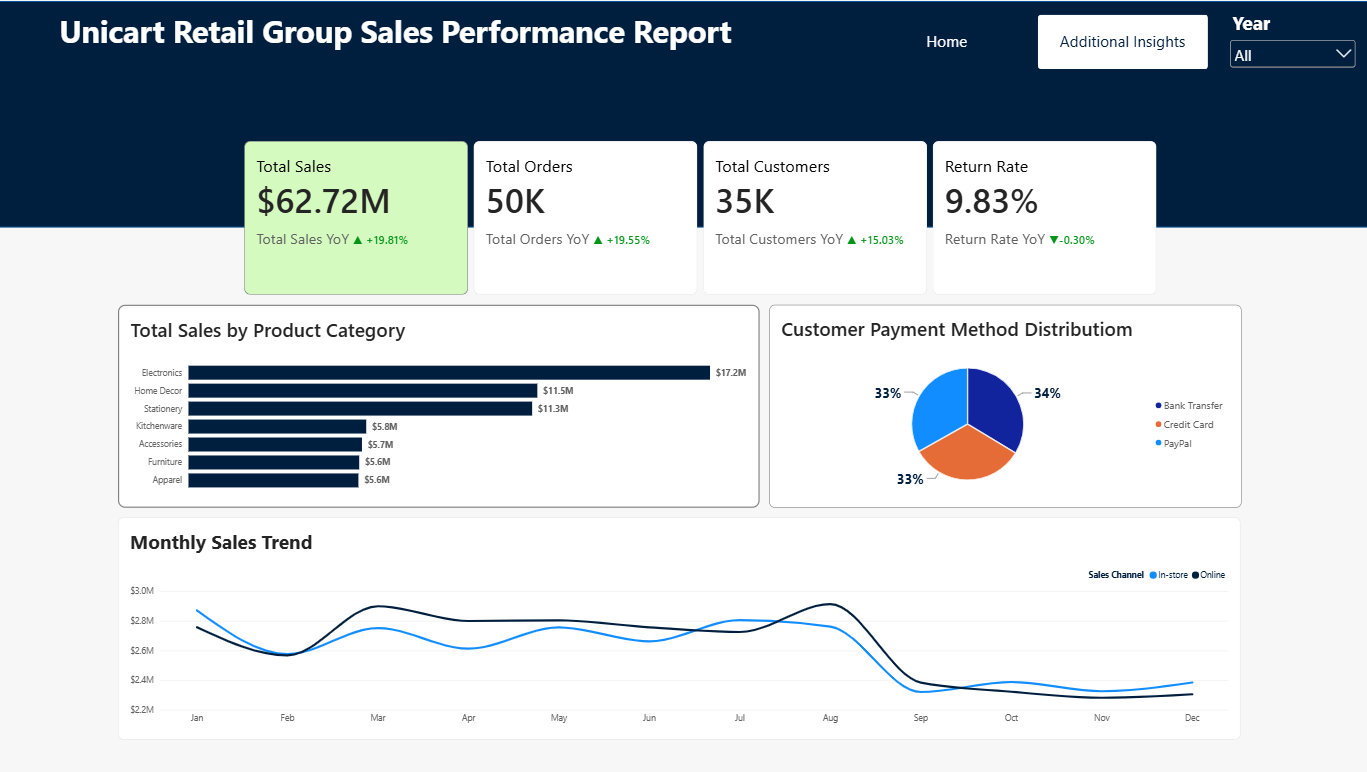

This screenshot's page, from the dashboard's own definition file:
{"tool":"powerbi","page":{"name":"Home","canvas":[1920,1080],"ordinal":0},"visuals":[{"type":"shape","box":[0,0,1920.1,316.7],"z":0},{"type":"cardVisual","fields":{"Data":["#Measures.Total Sales","#Measures.Total Orders","#Measures.Total Customers","#Measures.Return Rate"]},"box":[343.8,195.4,1277.6,215.3],"z":1000},{"type":"slicer","fields":{"Values":["DimDateTable.Year"]},"box":[1719.2,12.7,185.2,166.7],"z":2000},{"type":"lineChart","title":"Monthly Sales Trend","fields":{"Category":["DimDateTable.Month Name"],"Series":["FactSales.SalesChannel"],"Y":["#Measures.Total Sales"]},"box":[168.3,722.1,1570.8,311.3],"z":3000},{"type":"barChart","title":"Total Sales by Product Category","fields":{"Category":["FactSales.Product Category"],"Y":["#Measures.Total Sales"]},"box":[168.3,425.3,897.6,284.1],"z":4000},{"type":"pieChart","title":"Customer Payment Method Distributiom","fields":{"Category":["FactSales.PaymentMethod"],"Y":["CountNonNull(FactSales.PaymentMethod)"]},"box":[1078.6,425.3,660.5,284.1],"z":5000},{"type":"textbox","box":[0,425,168,284],"z":5001},{"type":"textbox","box":[76,12.7,960.9,103.2],"z":5002},{"type":"pageNavigator","box":[1208.9,19.9,485,76],"z":5003}]}

Visuals, with their boxes in screenshot pixels (x1, y1, x2, y2), scaled from the page's 1920x1080 canvas onto the 1367x772 screenshot:
shape: select_region(0, 0, 1366, 226)
cardVisual - #Measures.Total Sales x #Measures.Total Orders: select_region(245, 140, 1154, 294)
slicer - DimDateTable.Year: select_region(1224, 9, 1356, 128)
"Monthly Sales Trend" lineChart: select_region(120, 516, 1238, 739)
"Total Sales by Product Category" barChart: select_region(120, 304, 759, 507)
"Customer Payment Method Distributiom" pieChart: select_region(768, 304, 1238, 507)
textbox: select_region(0, 304, 120, 507)
textbox: select_region(54, 9, 738, 83)
pageNavigator: select_region(861, 14, 1206, 69)
